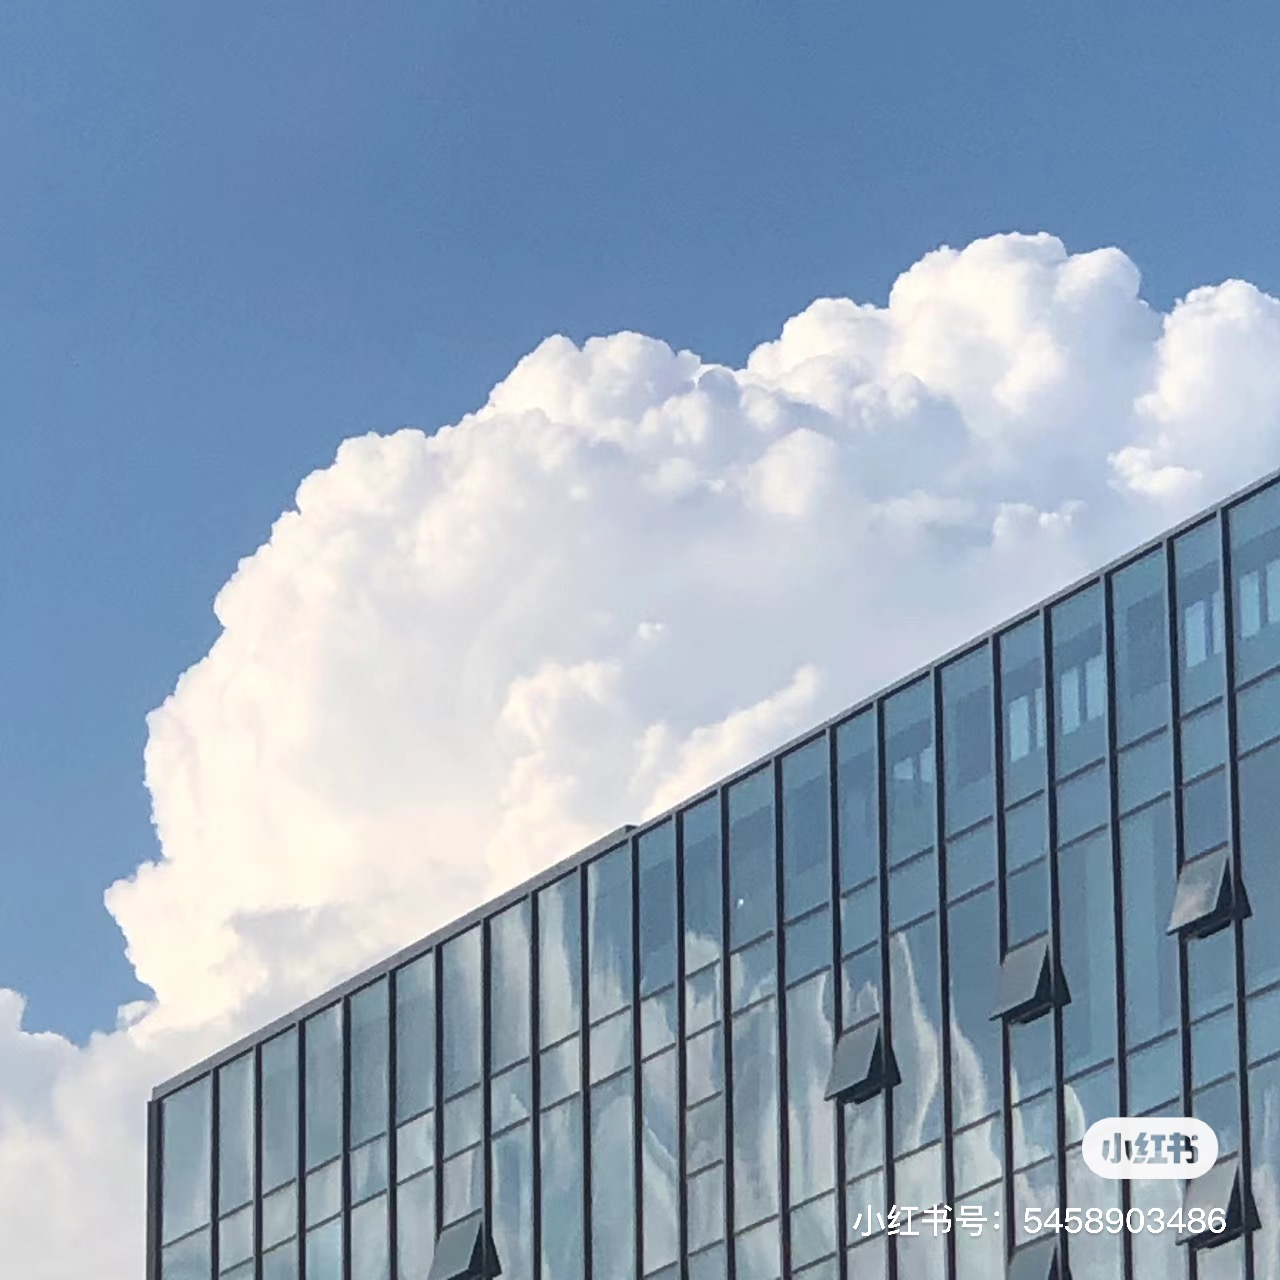Cumulus: (64, 163, 1235, 806)
